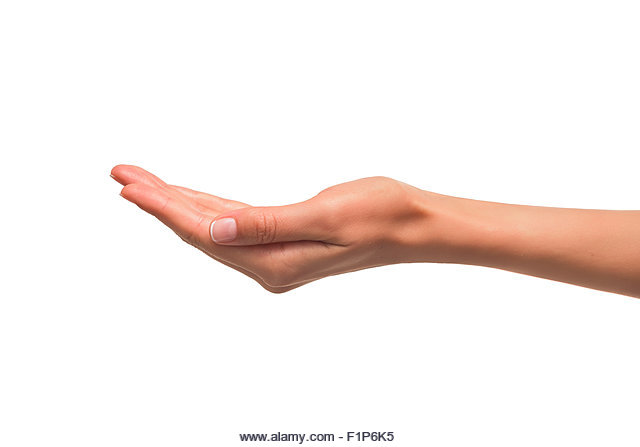hand: (95, 145, 437, 310)
